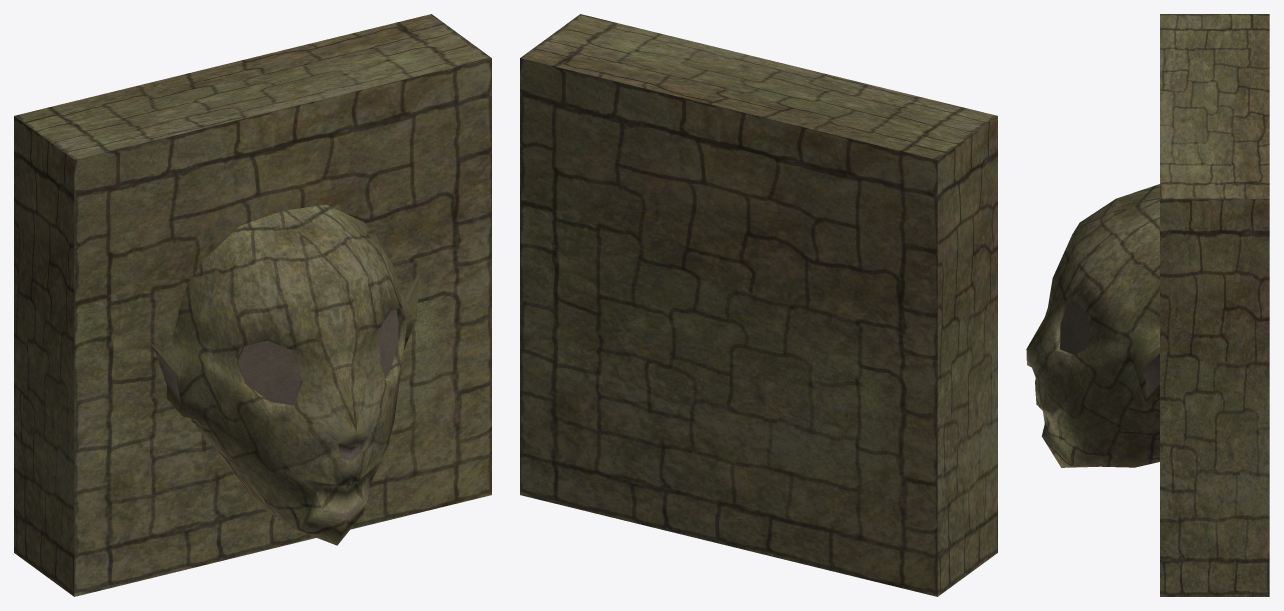
The model's file is Elf_Head_Wall_Statue.fbx.
3 renders of one model, left to right at view 1: azimuth 30°, elevation 25°; view 2: azimuth 150°, elevation 25°; view 3: azimuth 270°, elevation 25°, orthographic. The views are drawn at different scales.
Parts seen in each view (by area): view 1: Cube; view 2: Cube; view 3: Cube.
Part boxes in pixels (x1=…): Cube: x1=14, y1=14, x2=491, y2=596; Cube: x1=520, y1=14, x2=997, y2=596; Cube: x1=1026, y1=14, x2=1269, y2=596.
Bounding box in the file's own units: 3 × 3 × 1.66.
